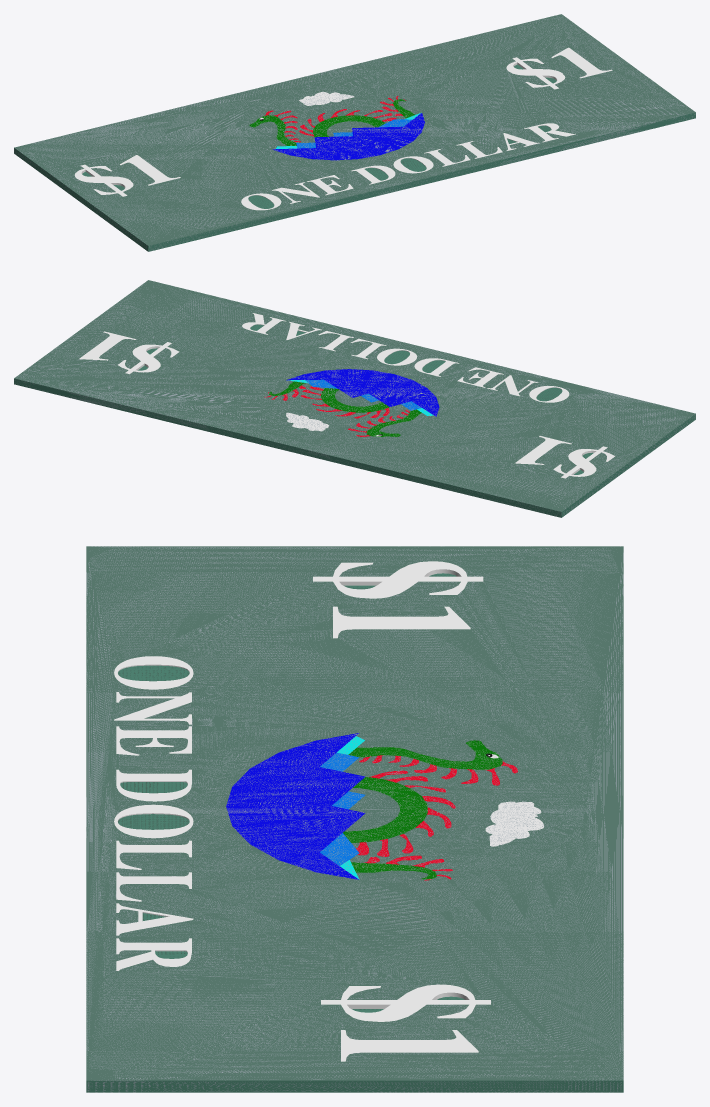
Rendered from NessieBucks.dae.
3 views of the same model, one above another, from view 1: azimuth 30°, elevation 25°; view 2: azimuth 150°, elevation 25°; view 3: azimuth 270°, elevation 25° (orthographic). The views are drawn at different scales.
Visible parts, largest first — view 1: SketchUp (×14); view 2: SketchUp (×13); view 3: SketchUp (×22).
Boxes of the visible parts, bbox=[...] form: SketchUp (×14): bbox=[14, 14, 695, 251]; SketchUp (×13): bbox=[14, 280, 695, 517]; SketchUp (×22): bbox=[86, 546, 623, 1092].
Size of the model in its own units: 6.14 by 2.61 by 0.0676.
